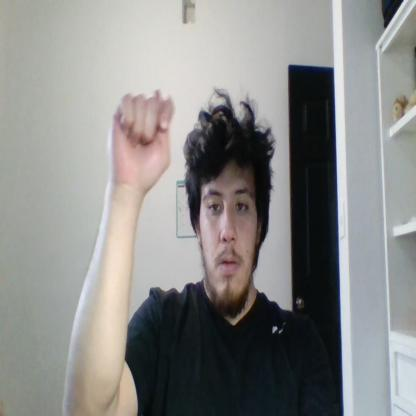T: (110, 87, 175, 191)
